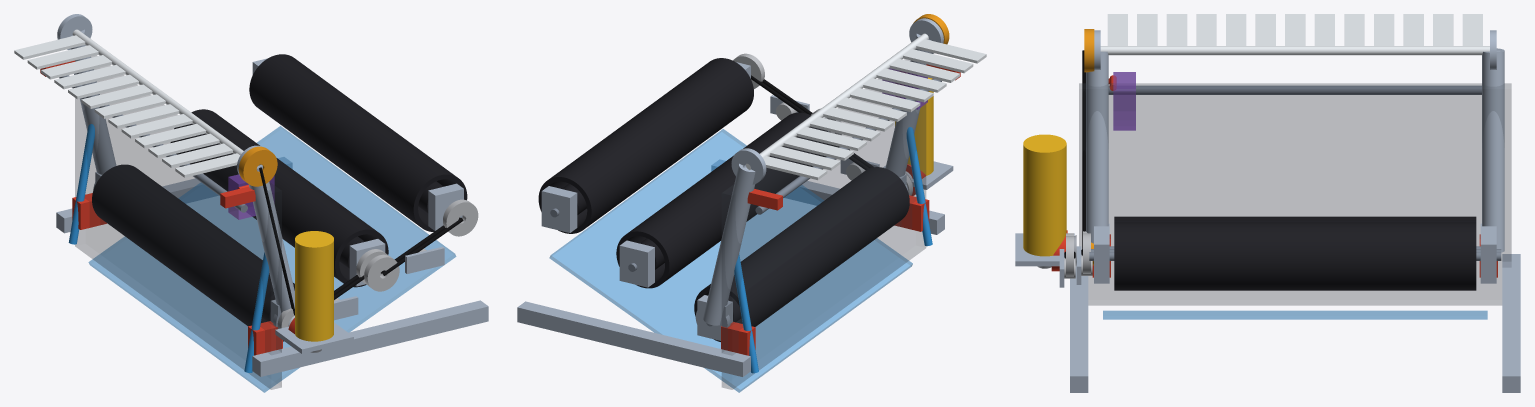
The model's file is biobuzz_single_motor_flipout_intake_stowed.glb.
3 views of the same model, side by side, from view 1: azimuth 30°, elevation 25°; view 2: azimuth 150°, elevation 25°; view 3: azimuth 270°, elevation 25° (orthographic). The views are drawn at different scales.
Visible parts, largest first — view 1: chassis_front_datum, ball_guide_floor, fixed_roller_3, fixed_roller_1, front_finger_bar, fixed_roller_2, mount_rail_-190, motor_5203_2402_0019_312rpm_envelope, pivot_arm_-174, pivot_arm_+174, mount_rail_+190, front_pulley_24t_3417_4008_0024 (+16 smaller); view 2: chassis_front_datum, ball_guide_floor, fixed_roller_3, fixed_roller_1, front_finger_bar, fixed_roller_2, mount_rail_+190, pivot_arm_+174, pivot_arm_-174, dual_bearing_block_3_+170, dual_bearing_block_2_+170, motor_5203_2402_0019_312rpm_envelope (+11 smaller); view 3: chassis_front_datum, fixed_roller_3, front_finger_bar, motor_5203_2402_0019_312rpm_envelope, pivot_arm_+174, pivot_arm_-174, ball_guide_floor, latch_cross_shaft, mount_rail_+190, mount_rail_-190, fixed_roller_1, fixed_roller_2 (+6 smaller).
Part boxes in pixels (x1=…): chassis_front_datum: x1=75, y1=55, x2=281, y2=389; ball_guide_floor: x1=88, y1=126, x2=456, y2=392; fixed_roller_3: x1=249, y1=54, x2=467, y2=231; fixed_roller_1: x1=92, y1=164, x2=294, y2=341; front_finger_bar: x1=14, y1=29, x2=243, y2=177; fixed_roller_2: x1=170, y1=109, x2=388, y2=287; mount_rail_-190: x1=252, y1=300, x2=488, y2=376; motor_5203_2402_0019_312rpm_envelope: x1=295, y1=231, x2=333, y2=341; pivot_arm_-174: x1=237, y1=145, x2=294, y2=326; pivot_arm_+174: x1=57, y1=14, x2=116, y2=189; mount_rail_+190: x1=56, y1=157, x2=292, y2=233; front_pulley_24t_3417_4008_0024: x1=238, y1=146, x2=277, y2=186; chassis_front_datum: x1=722, y1=59, x2=925, y2=389; ball_guide_floor: x1=549, y1=129, x2=912, y2=392; fixed_roller_3: x1=538, y1=58, x2=753, y2=233; fixed_roller_1: x1=694, y1=167, x2=909, y2=341; front_finger_bar: x1=746, y1=33, x2=986, y2=180; fixed_roller_2: x1=616, y1=112, x2=831, y2=288; mount_rail_+190: x1=517, y1=301, x2=750, y2=376; pivot_arm_+174: x1=695, y1=148, x2=766, y2=337; pivot_arm_-174: x1=885, y1=18, x2=943, y2=191; dual_bearing_block_3_+170: x1=541, y1=186, x2=577, y2=232; dual_bearing_block_2_+170: x1=619, y1=240, x2=654, y2=287; motor_5203_2402_0019_312rpm_envelope: x1=895, y1=77, x2=933, y2=175; chassis_front_datum: x1=1079, y1=83, x2=1511, y2=305; fixed_roller_3: x1=1114, y1=222, x2=1476, y2=290; front_finger_bar: x1=1100, y1=14, x2=1489, y2=55; motor_5203_2402_0019_312rpm_envelope: x1=1023, y1=134, x2=1066, y2=256; pivot_arm_+174: x1=1482, y1=30, x2=1504, y2=252; pivot_arm_-174: x1=1086, y1=30, x2=1108, y2=243; ball_guide_floor: x1=1103, y1=310, x2=1487, y2=319; latch_cross_shaft: x1=1108, y1=85, x2=1481, y2=94; mount_rail_+190: x1=1502, y1=254, x2=1520, y2=392; mount_rail_-190: x1=1070, y1=266, x2=1088, y2=392; fixed_roller_1: x1=1114, y1=216, x2=1476, y2=219; fixed_roller_2: x1=1114, y1=219, x2=1476, y2=222.
Size of the model in its own units: 321 by 269 by 444.
